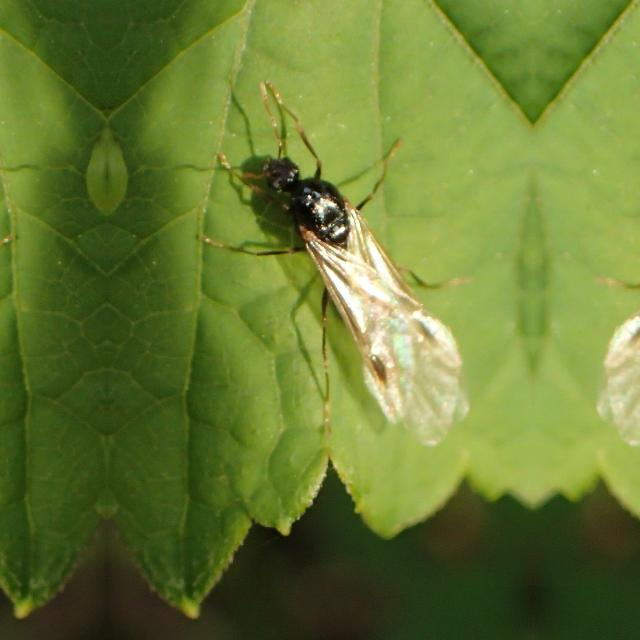Tetramorium: (218, 75, 480, 417), (584, 75, 640, 417)
